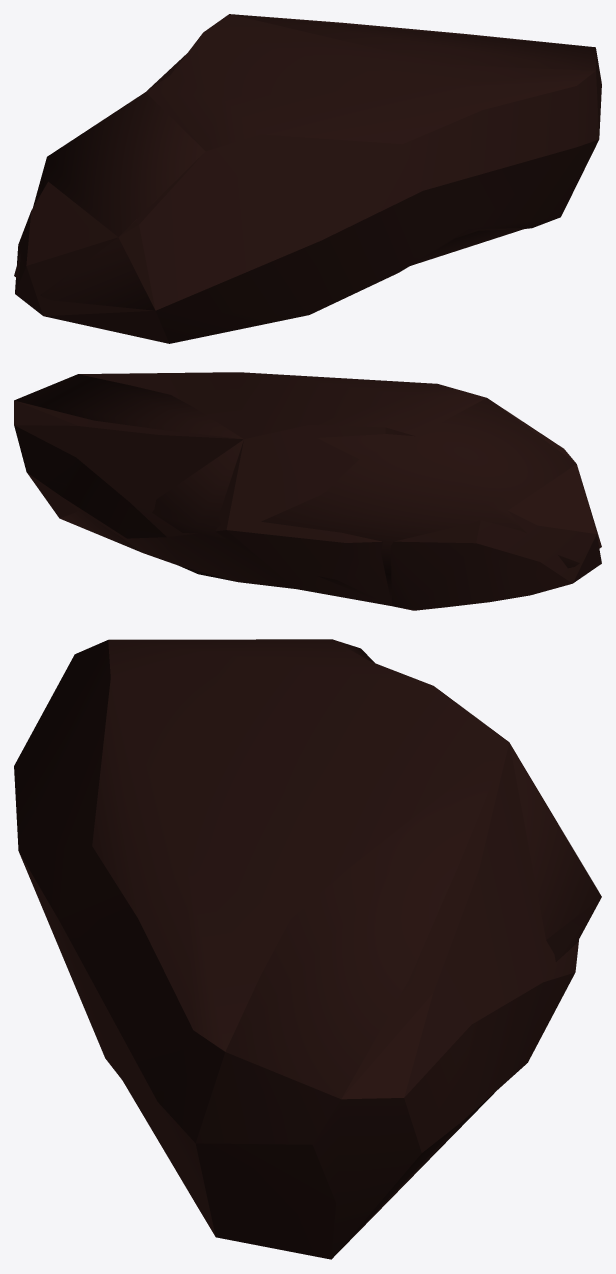
File: SM_Rock_04.fbx
3 views of the same model, one above another, from view 1: azimuth 30°, elevation 25°; view 2: azimuth 150°, elevation 25°; view 3: azimuth 270°, elevation 25° (orthographic). The views are drawn at different scales.
Parts seen in each view (by area): view 1: SM_Rock_04, SM_Rock_04_col; view 2: SM_Rock_04, SM_Rock_04_col; view 3: SM_Rock_04, SM_Rock_04_col.
Part boxes in pixels (x1=…): SM_Rock_04: x1=15, y1=14, x2=601, y2=343; SM_Rock_04_col: x1=14, y1=14, x2=595, y2=310; SM_Rock_04: x1=14, y1=372, x2=601, y2=610; SM_Rock_04_col: x1=14, y1=374, x2=601, y2=604; SM_Rock_04: x1=14, y1=639, x2=578, y2=1259; SM_Rock_04_col: x1=225, y1=639, x2=601, y2=1258.
Size of the model in its own units: 429 by 140 by 223.
